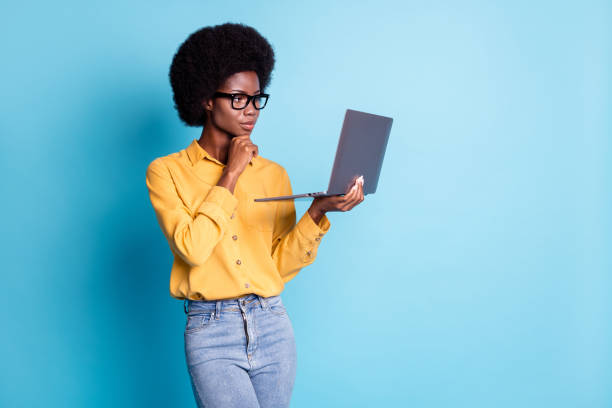without mask: (210, 73, 273, 139)
